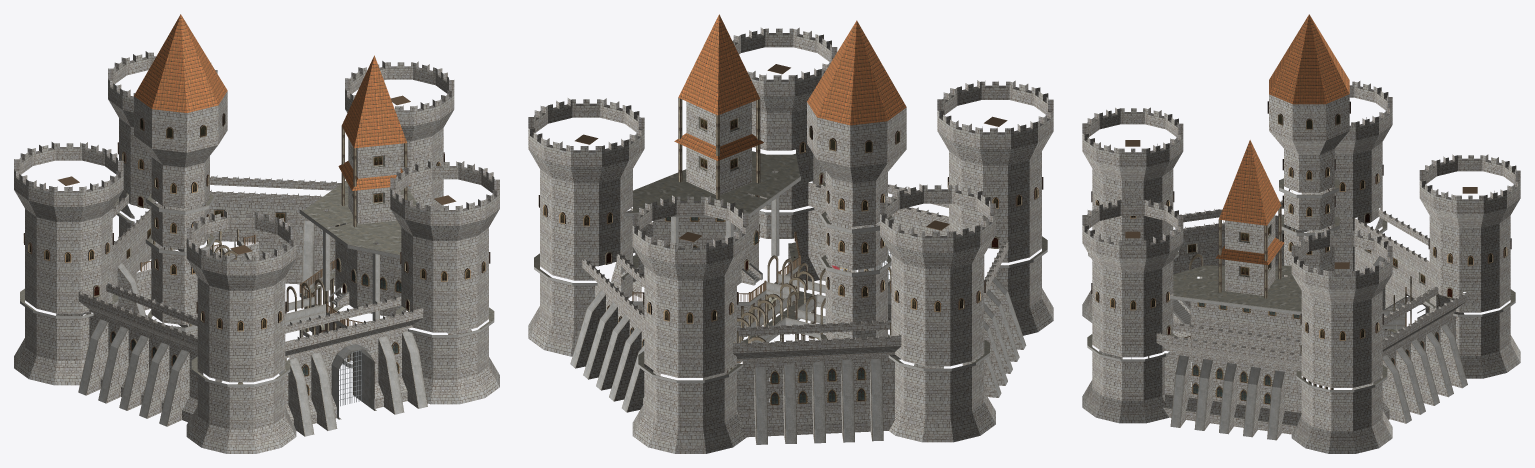
The model's file is castle_3d_model.glb.
3 views of the same model, side by side, from view 1: azimuth 30°, elevation 25°; view 2: azimuth 150°, elevation 25°; view 3: azimuth 270°, elevation 25° (orthographic). The views are drawn at different scales.
Visible parts, largest first — view 1: Castle3DModel_5_StaticMeshComponent0_0; view 2: Castle3DModel_5_StaticMeshComponent0_0; view 3: Castle3DModel_5_StaticMeshComponent0_0.
Boxes of the visible parts, x1,y1,x2,y2 form: Castle3DModel_5_StaticMeshComponent0_0: [14, 14, 499, 453]; Castle3DModel_5_StaticMeshComponent0_0: [528, 14, 1053, 453]; Castle3DModel_5_StaticMeshComponent0_0: [1082, 14, 1520, 453].
Size of the model in its own units: 115 by 87.38 by 111.
19 materials, 19 textured.
